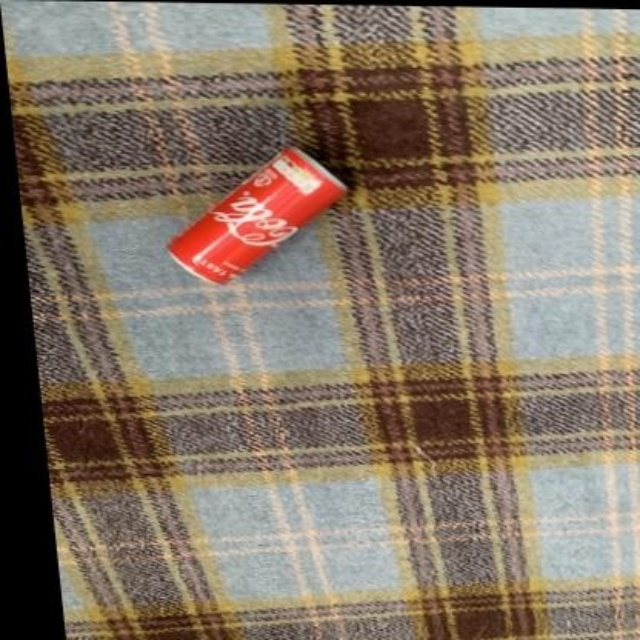trash: (168, 148, 345, 282)
